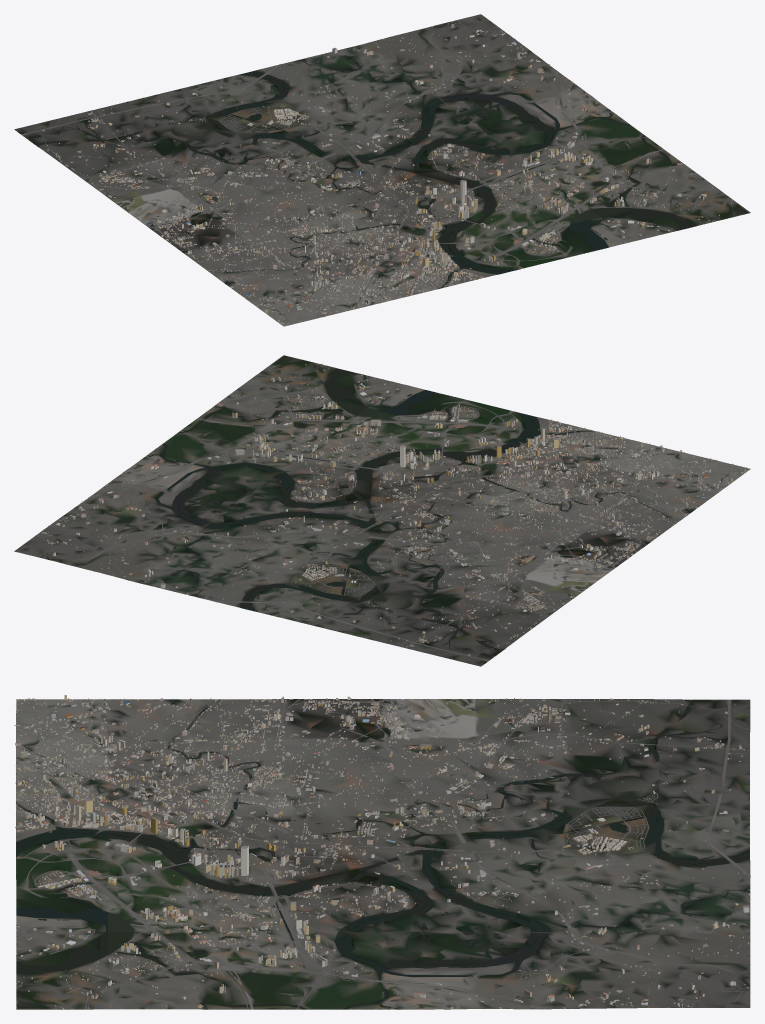
The picture shows the model from 3 angles, top to bottom: view 1: azimuth 30°, elevation 25°; view 2: azimuth 150°, elevation 25°; view 3: azimuth 270°, elevation 25°; orthographic projection. The views are drawn at different scales.
Parts seen in each view (by area): view 1: ground, buildings, roads, water; view 2: ground, buildings, roads, water; view 3: ground, buildings, roads, water.
Part boxes in pixels (box(x1,y1,x2,y2)): ground: box(14, 14, 750, 326); buildings: box(27, 21, 732, 325); roads: box(21, 19, 724, 323); water: box(18, 48, 740, 288); ground: box(14, 355, 750, 666); buildings: box(38, 364, 748, 660); roads: box(26, 363, 746, 665); water: box(137, 361, 693, 663); ground: box(16, 699, 750, 1009); buildings: box(14, 695, 750, 1009); roads: box(15, 699, 750, 1009); water: box(16, 699, 749, 1009).
Bounding box in the file's own units: 11227 × 466 × 11250.
